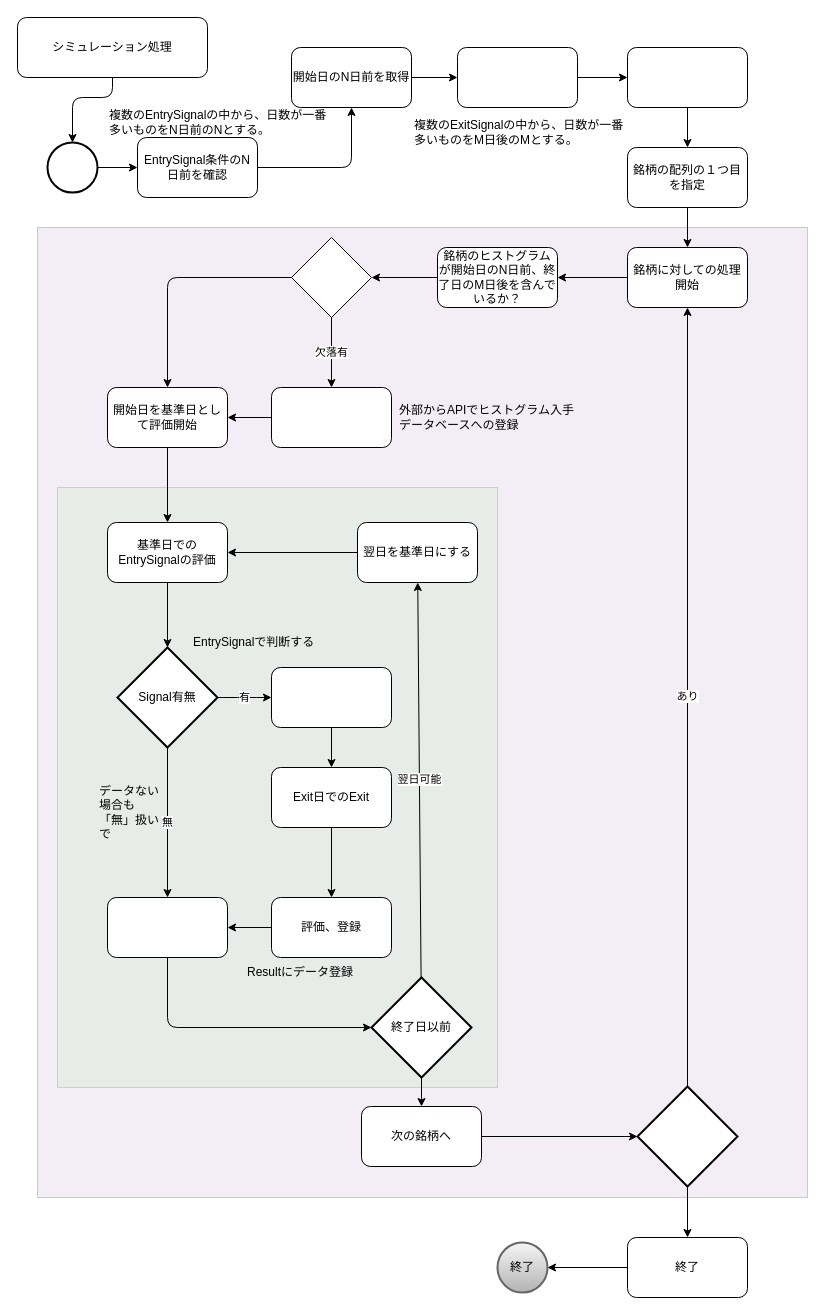
Image size: 825x1315. Some labels were removed from this diagram. The box of each missing label's shape, as (x1, y1, x2, y2) in pixels:
ExitSignal条件のM日後を確認: (456, 46, 578, 108)
含まれている: (290, 236, 372, 318)
基準日でのEntry: (270, 666, 392, 728)
次の銘柄あり: (636, 1085, 738, 1187)
終了日のM日後を取得: (626, 46, 748, 108)
翌日が終了日以前: (106, 896, 228, 958)
開始: (46, 141, 98, 193)
開始日N日前、終了日M日後のデータを取得: (270, 386, 392, 448)
